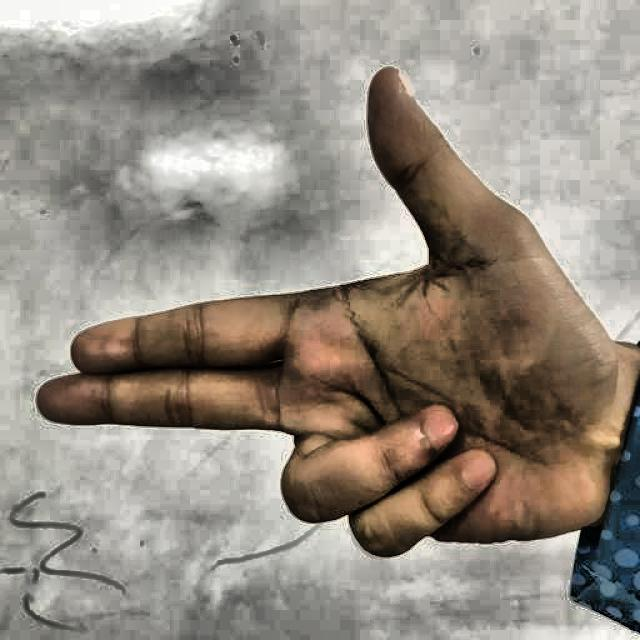Jha: (30, 52, 612, 616)
